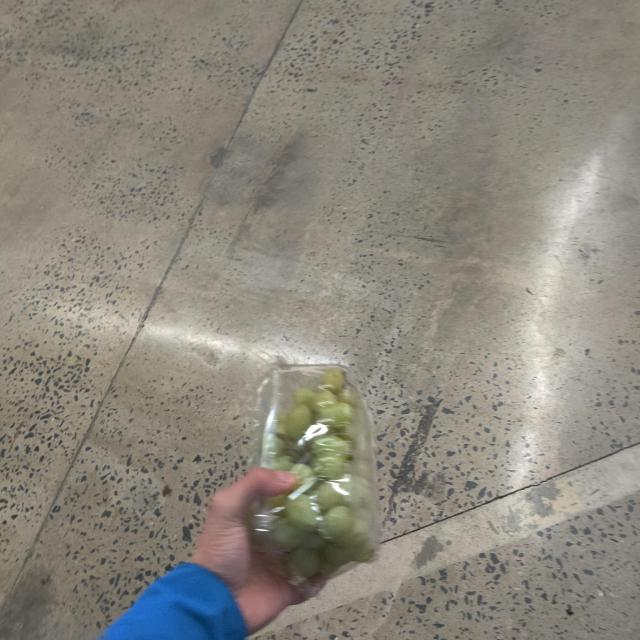Grapes: (253, 356, 380, 589)
